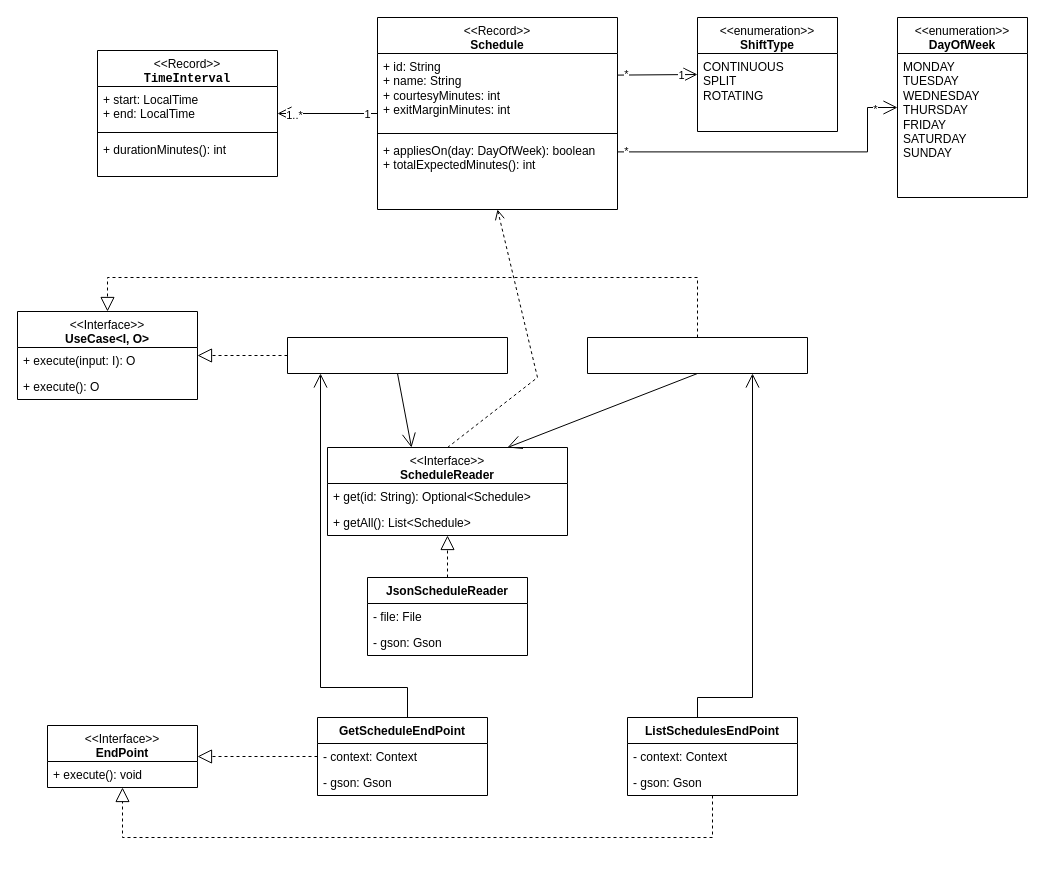
The diagram is 1045 pixels wide and 869 high, and some of its shapes have lost their labels. The shapes that lost their labels are listed below. From the top down, each one's centre as x and y in pixels, then its label:
[397,355]: GetScheduleUseCase
[697,355]: ListSchedulesUseCase
